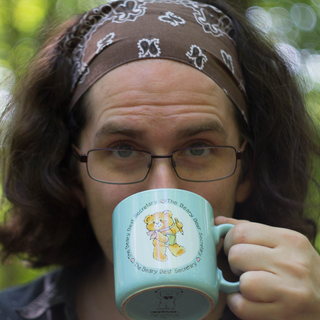eye: (102, 140, 147, 163), (178, 139, 221, 163)
